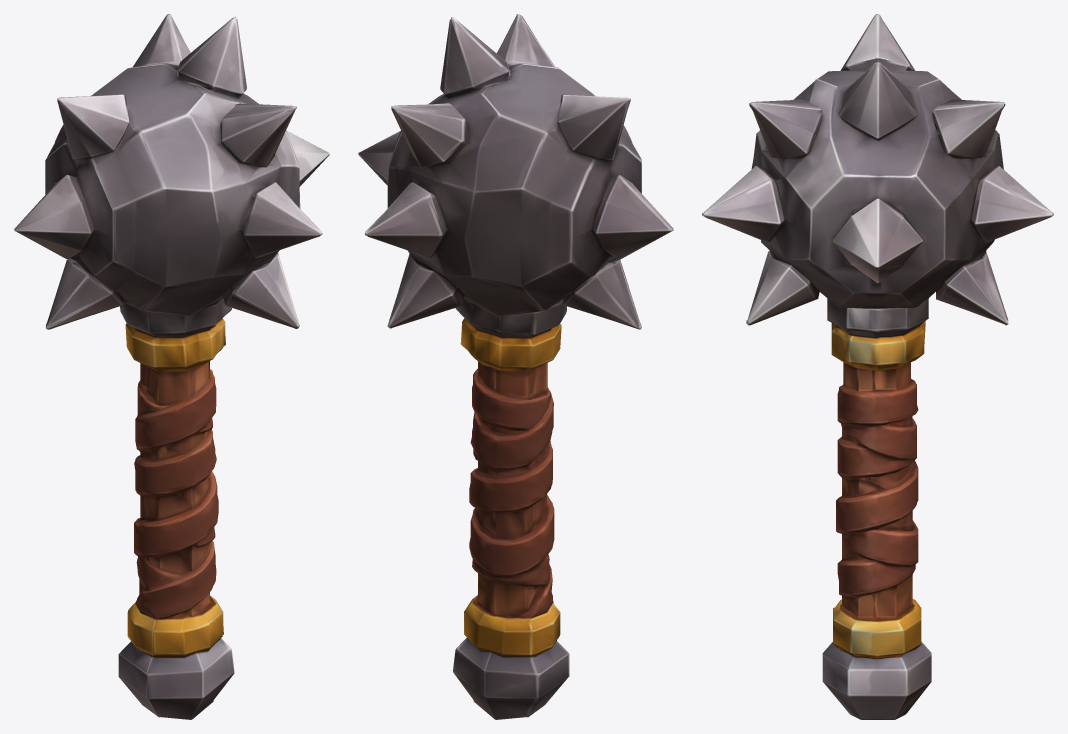
The model's file is mace.glb.
3 renders of one model, left to right at view 1: azimuth 30°, elevation 25°; view 2: azimuth 150°, elevation 25°; view 3: azimuth 270°, elevation 25°, orthographic.
Visible parts, largest first — view 1: tripo_node_beba2702-7c49-4ced-ba09-3e8abd263ede; view 2: tripo_node_beba2702-7c49-4ced-ba09-3e8abd263ede; view 3: tripo_node_beba2702-7c49-4ced-ba09-3e8abd263ede.
Part boxes in pixels (<box>): tripo_node_beba2702-7c49-4ced-ba09-3e8abd263ede: <box>14,14,329,719</box>; tripo_node_beba2702-7c49-4ced-ba09-3e8abd263ede: <box>358,14,673,719</box>; tripo_node_beba2702-7c49-4ced-ba09-3e8abd263ede: <box>702,14,1053,719</box>.
Size of the model in its own units: 0.4834 by 0.998 by 0.4677.
Materials: 1 (1 with a texture image).
